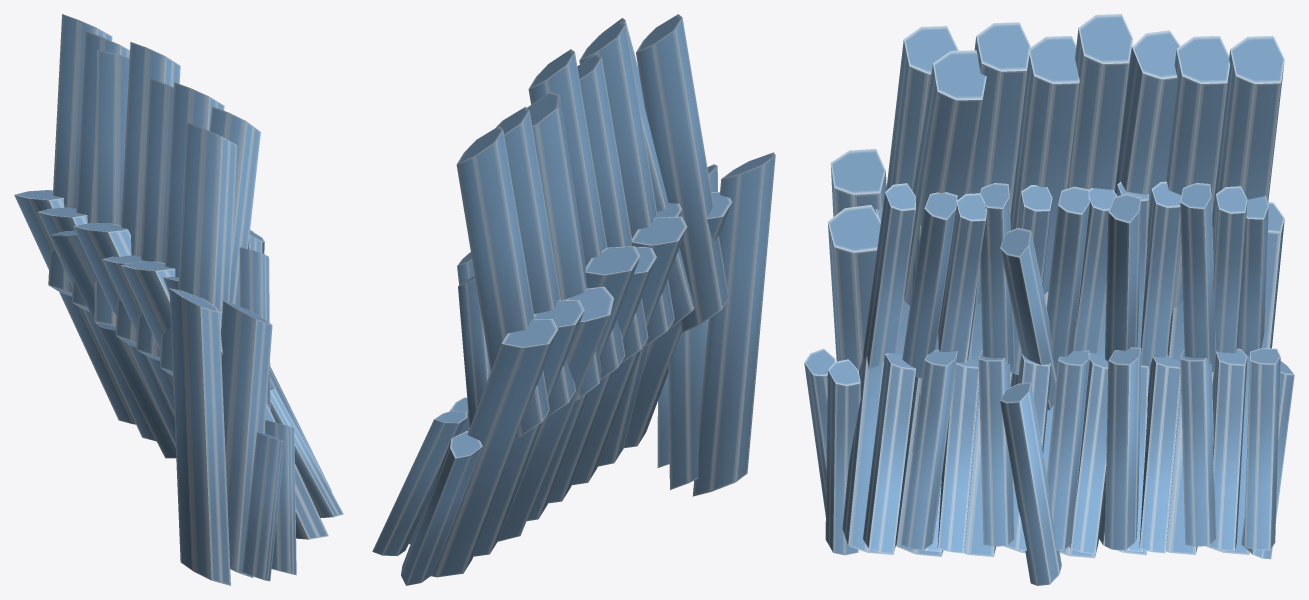
Rendered from wall_crystal_pipes_11.fbx.
3 views of the same model, side by side, from view 1: azimuth 30°, elevation 25°; view 2: azimuth 150°, elevation 25°; view 3: azimuth 270°, elevation 25° (orthographic). The views are drawn at different scales.
Parts seen in each view (by area): view 1: wall_crystal_pipes_11; view 2: wall_crystal_pipes_11; view 3: wall_crystal_pipes_11.
Part boxes in pixels (box(x1,y1,x2,y2)): wall_crystal_pipes_11: box(14, 14, 343, 585); wall_crystal_pipes_11: box(372, 14, 775, 585); wall_crystal_pipes_11: box(804, 14, 1294, 585).
Size of the model in its own units: 0.6667 by 1.49 by 1.26.
Materials: 1 (1 with a texture image).
